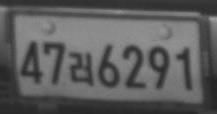1: (174, 46, 199, 90)
2: (123, 44, 146, 89)
4: (19, 40, 43, 83)
6: (98, 44, 120, 87)
7: (44, 41, 66, 84)
9: (148, 45, 169, 89)
러: (69, 51, 94, 85)
